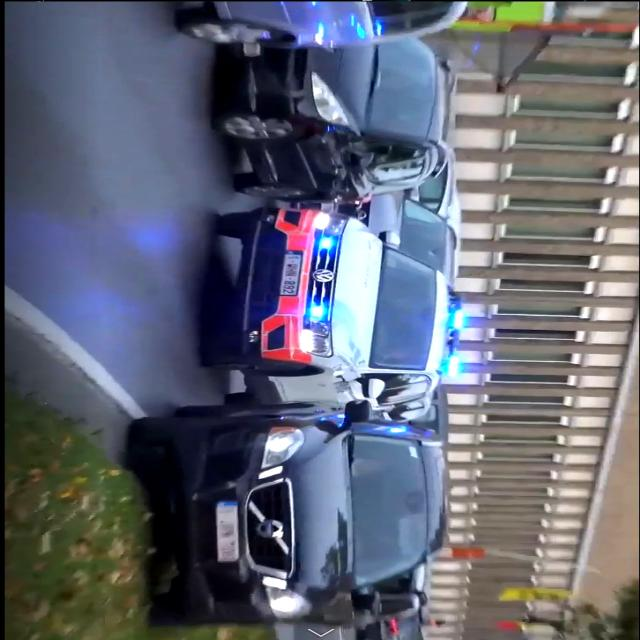emergency: (190, 203, 462, 408)
